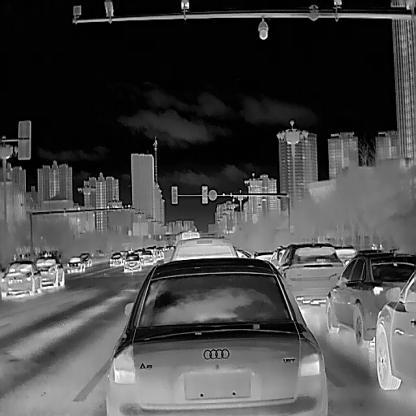car: (105, 255, 327, 415), (325, 251, 415, 347), (374, 268, 415, 389), (276, 241, 343, 304), (0, 259, 41, 299), (33, 256, 64, 291), (66, 255, 85, 273), (123, 252, 141, 271), (138, 249, 153, 265), (108, 252, 123, 266)
light: (168, 184, 181, 208), (198, 184, 208, 205)
sign: (205, 187, 219, 201)
